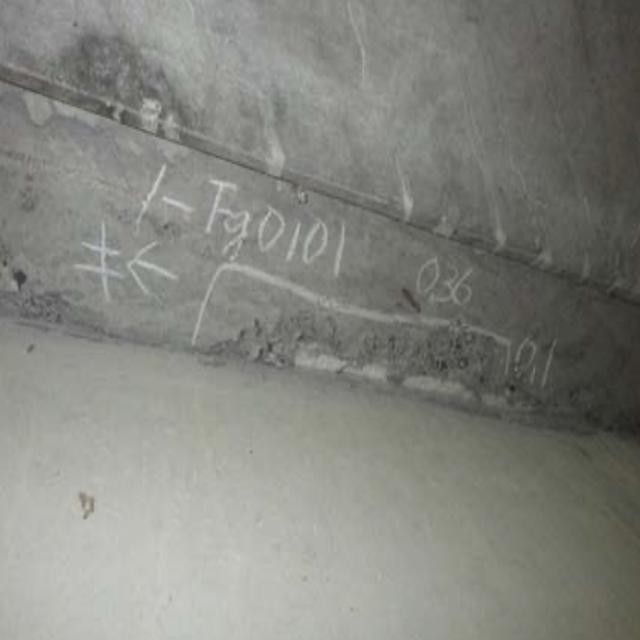spalling: (201, 268, 533, 412)
